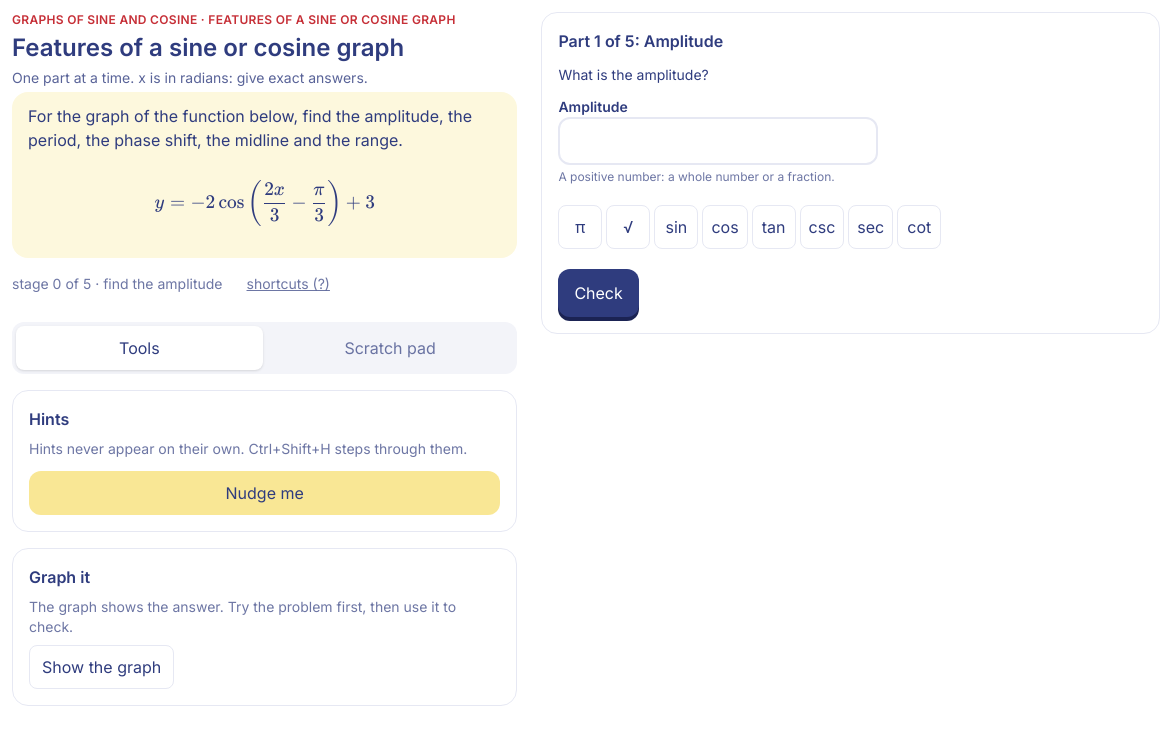
Scenario: sinusoids sg.features on the screen › an unreadable answer records nothing
The width and height of the screenshot is (1164, 732).
Click the button "Check" at [599, 293], box [558, 269, 639, 317]
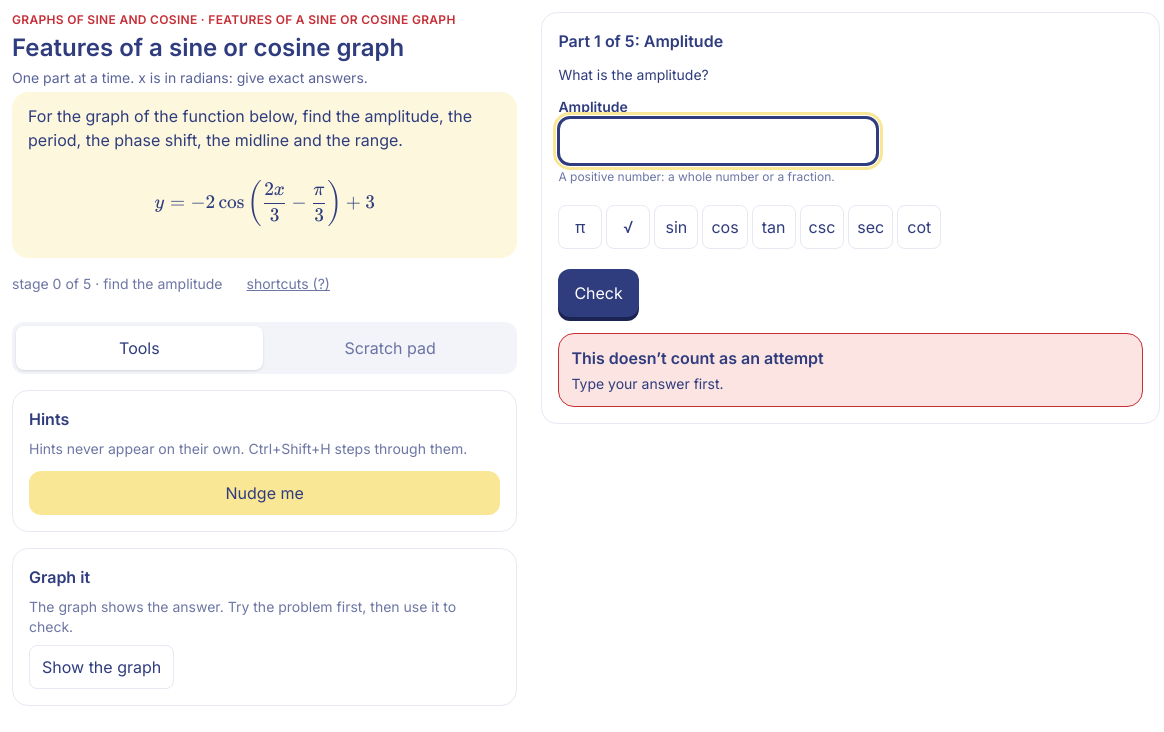
Expected: the message shows "This doesn’t count as an attempt", [571, 348, 824, 368]
Type "???" into the field labelled "Amplitude" at [718, 141], box [558, 117, 878, 165]
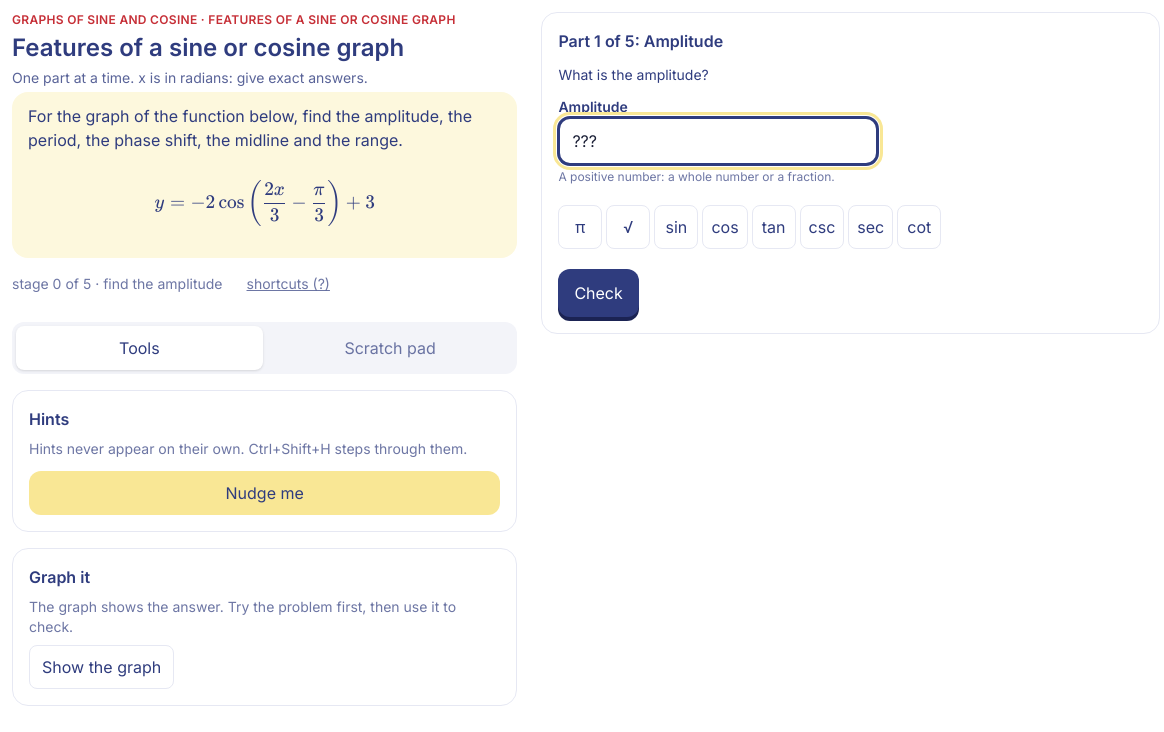
Click the button "Check" at [599, 293], box [558, 269, 639, 317]
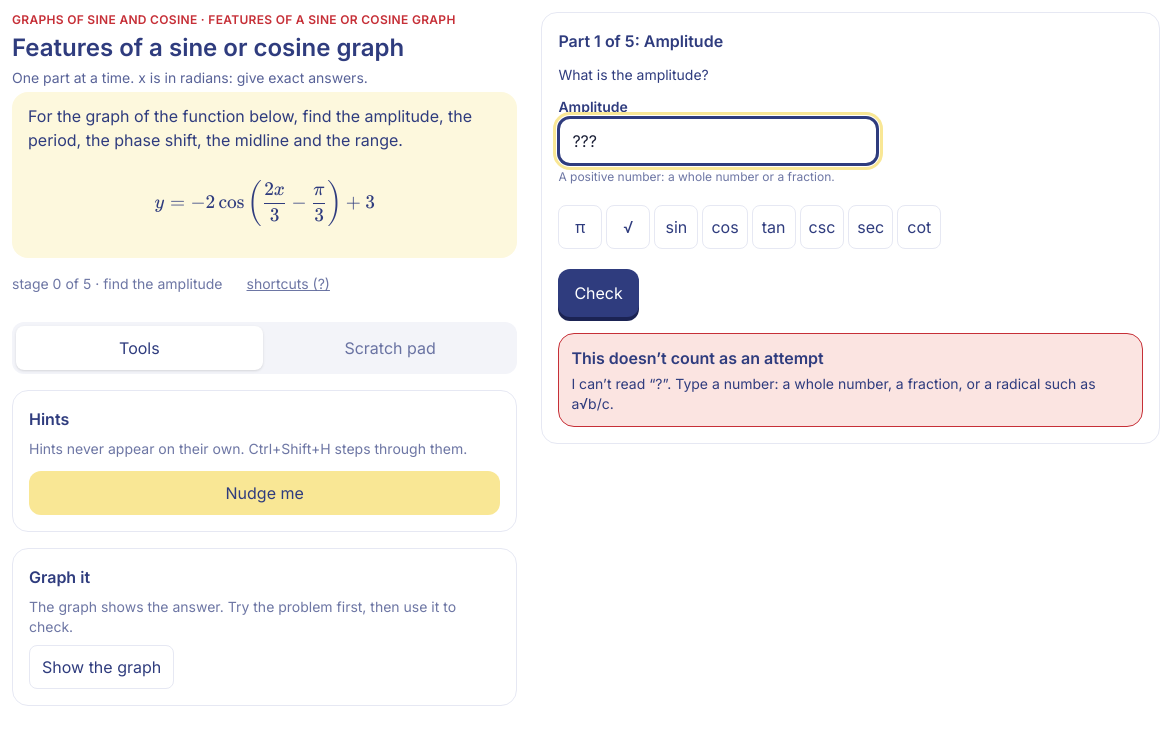
Expected: the message shows "This doesn’t count as an attempt", [571, 348, 824, 368]
